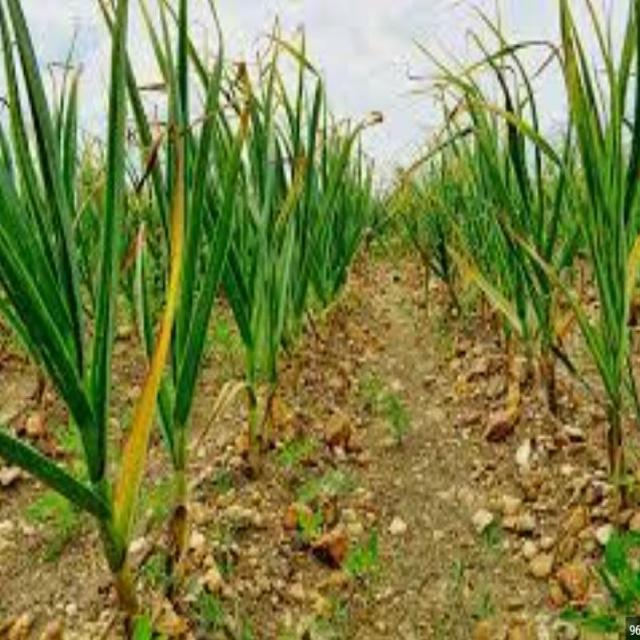row: (193, 252, 624, 640)
